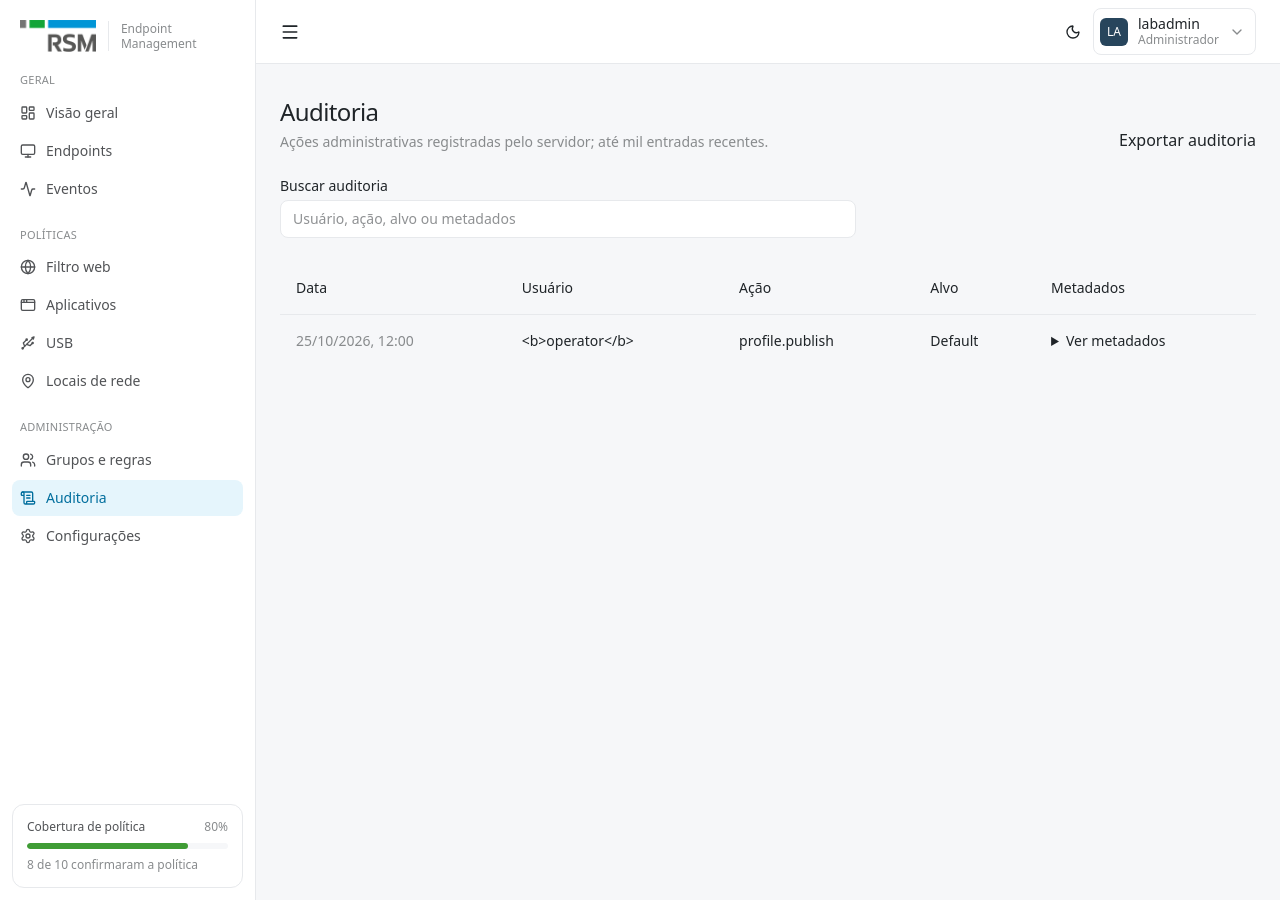
management pages › renders audit metadata as plain text and filters by actor
Expected: the text "<b>operator</b>" is shown, [506,315,723,367]
Click the search field labelled "Buscar auditoria" at (568, 219), box [280,200,856,238]
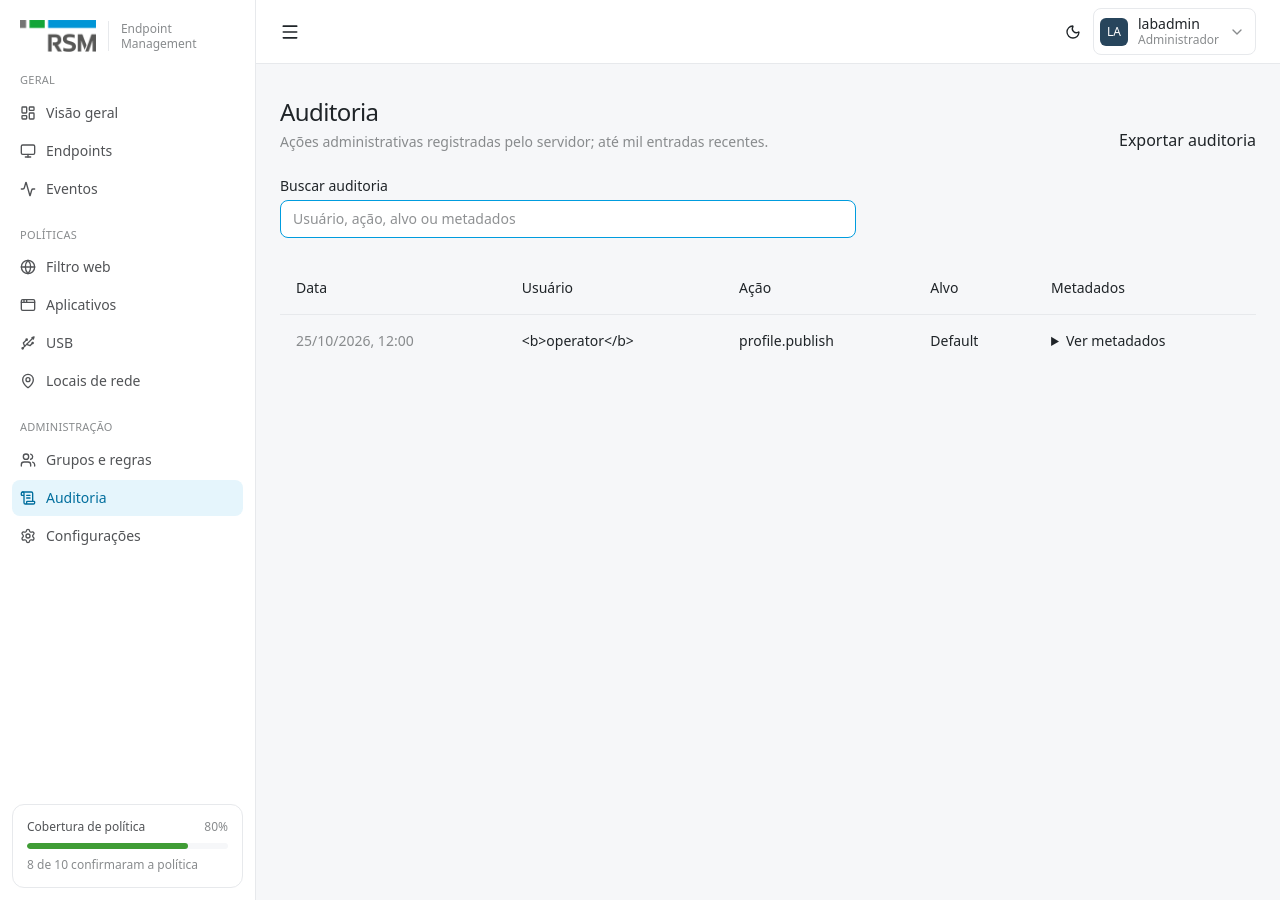
Type keys "missing"
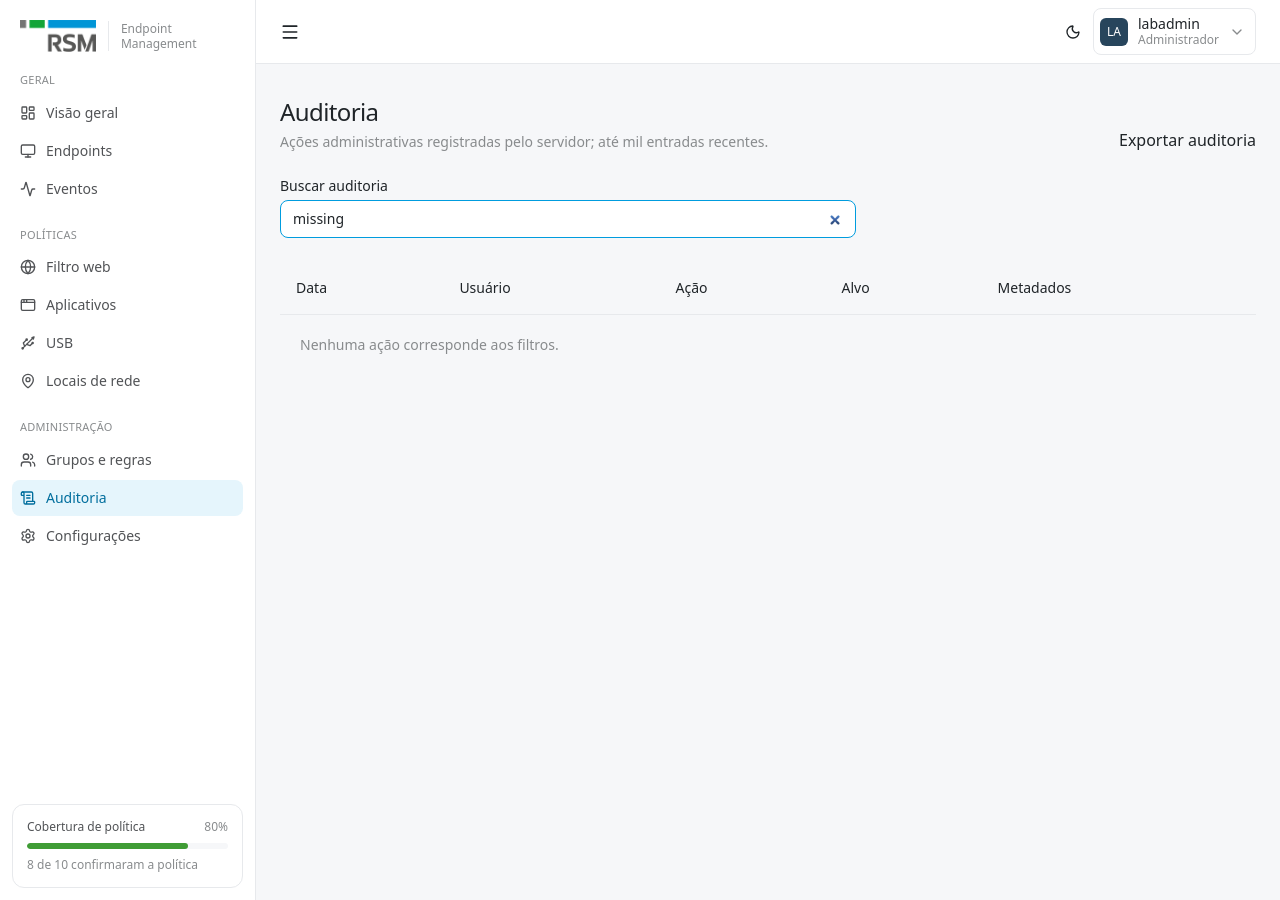
Expected: the text "Nenhuma ação corresponde aos filtros." is shown, [300,335,559,354]
